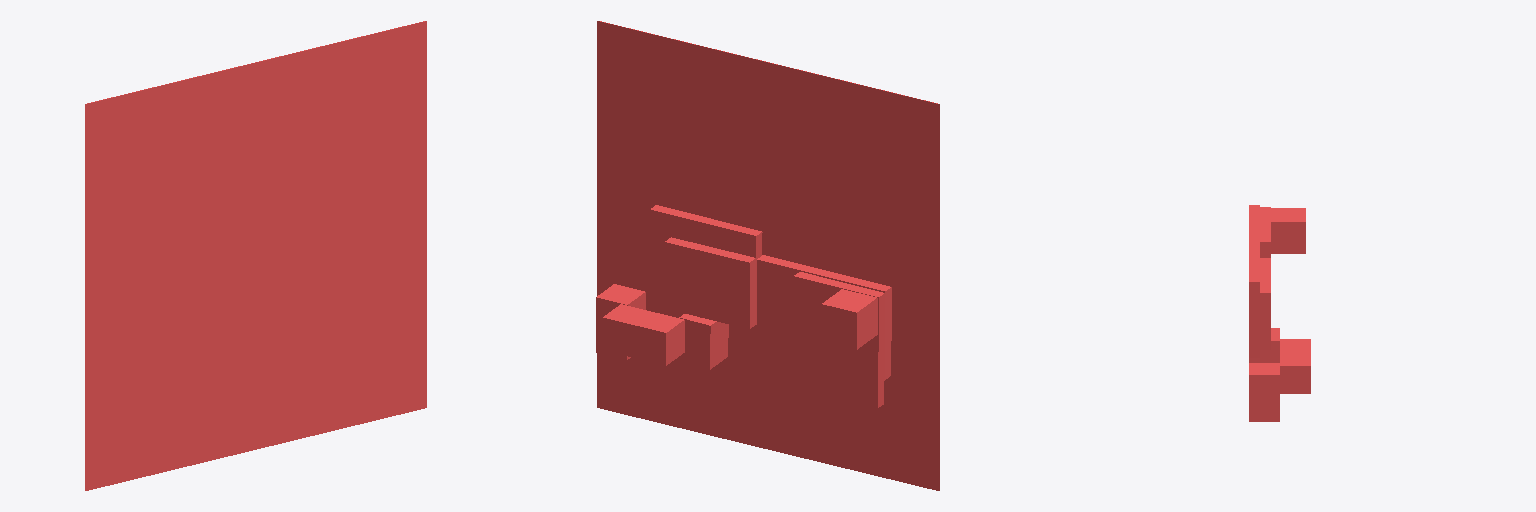
URDF robot description (cube.urdf):
<?xml version="1.0" ?>
<robot name="cube.urdf">
  <link concave="yes" name="baseLink">
    <contact>
      <lateral_friction value="0.5"/>
      <rolling_friction value="0.0"/>
      <contact_cfm value="0.0"/>
      <contact_erp value="1.0"/>
    </contact>
    <inertial>
      <origin rpy="0 0 0" xyz="0.07 0.05 0.03"/>
       <mass value="0"/>
       <inertia ixx="1" ixy="0" ixz="0" iyy="1" iyz="0" izz="1"/>
    </inertial>
    <visual>
      <origin rpy="0 0 0" xyz="0 0 0"/>
      <geometry>
        <mesh filename="0000.obj" scale=".1 .1 .1"/>
      </geometry>
       <material name="red">
        <color rgba="1 0.4 0.4 1"/>
      </material>
    </visual>
    <collision concave="yes">
      <origin rpy="0 0 0" xyz="0 0 0"/>
      <geometry>
	 	<mesh filename="0000.obj" scale=".1 .1 .1"/>
      </geometry>
    </collision>
  </link>
</robot>

--- Render facts (derived) ---
The picture shows the robot from 3 angles, left to right: view 1: azimuth 30°, elevation 25°; view 2: azimuth 150°, elevation 25°; view 3: azimuth 270°, elevation 25°; orthographic projection.
Robot: cube.urdf — 1 links, 0 joints (none); root link baseLink; default pose: all joints at 0.
Links seen in each view (by area): view 1: baseLink; view 2: baseLink; view 3: baseLink.
Boxes of the visible links, x1=… form: baseLink: x1=85, y1=21, x2=426, y2=490; baseLink: x1=596, y1=21, x2=939, y2=490; baseLink: x1=1249, y1=205, x2=1310, y2=421.
Size in the robot's own frame: 0.4902 by 0.0918 by 0.5294 metres.
Meshes: 1 distinct files referenced, 1 mesh visuals loaded (1 OBJ).